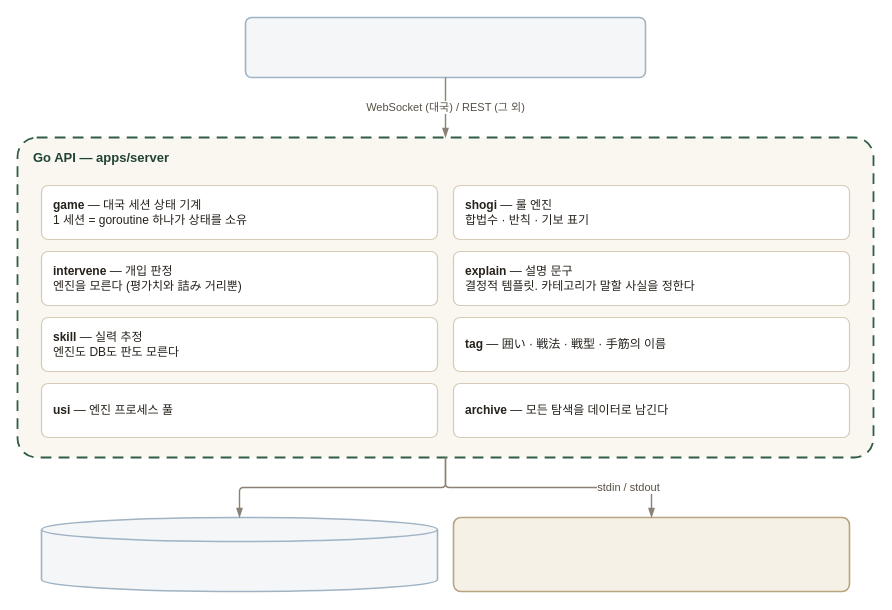
The diagram is 892 pixels wide and 610 high, and some of its shapes have lost their labels. The box of each missing label's shape, as (x1, y1, x2, y2) in pixels:
PostgreSQL 17 대국 · 국면별 평가치 캐시: (40, 516, 438, 592)
USI 엔진 N개 やねうら王 9.40 + 水匠5 + 詰将棋 solver (별도 바이너리): (452, 516, 850, 592)
브라우저 React + TypeScript + Vite + three.js: (244, 16, 646, 78)
